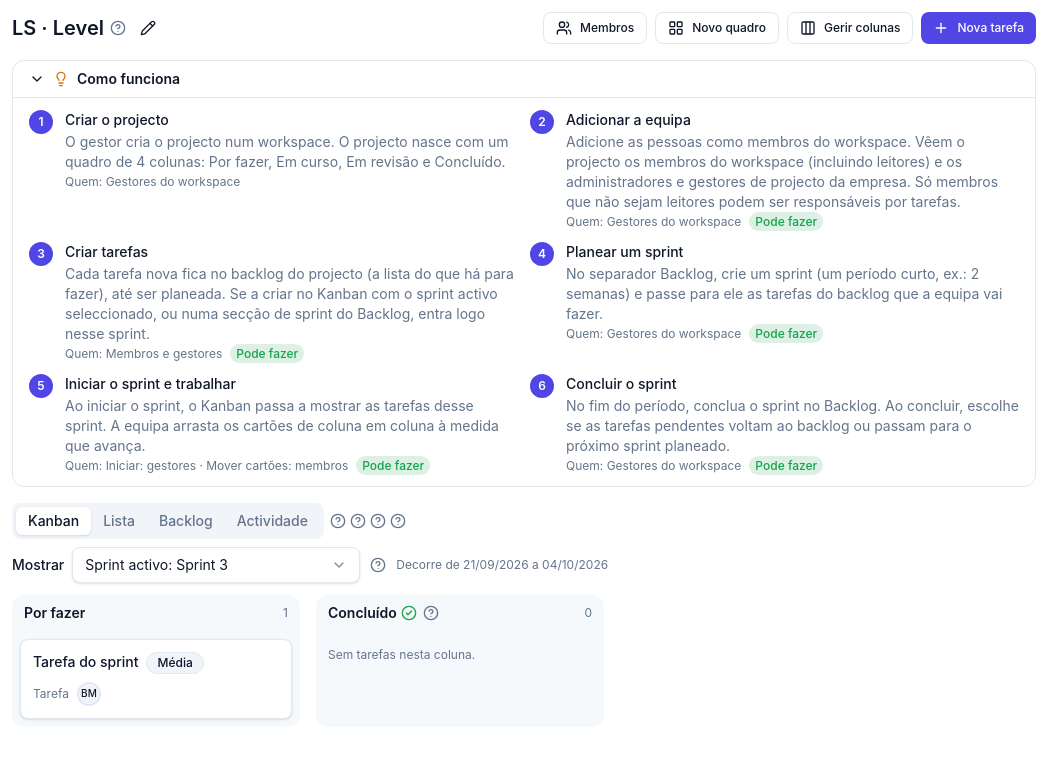
Test case: KanbanBoardPage: painel "Como funciona" › pode ser fechado e fica lembrado no browser
The width and height of the screenshot is (1048, 780).
expect the text "Planear um sprint" is shown: met, box [565,242,683,260]
Click the button "Como funciona" at coordinates (129, 78), box [29,69,1019,89]
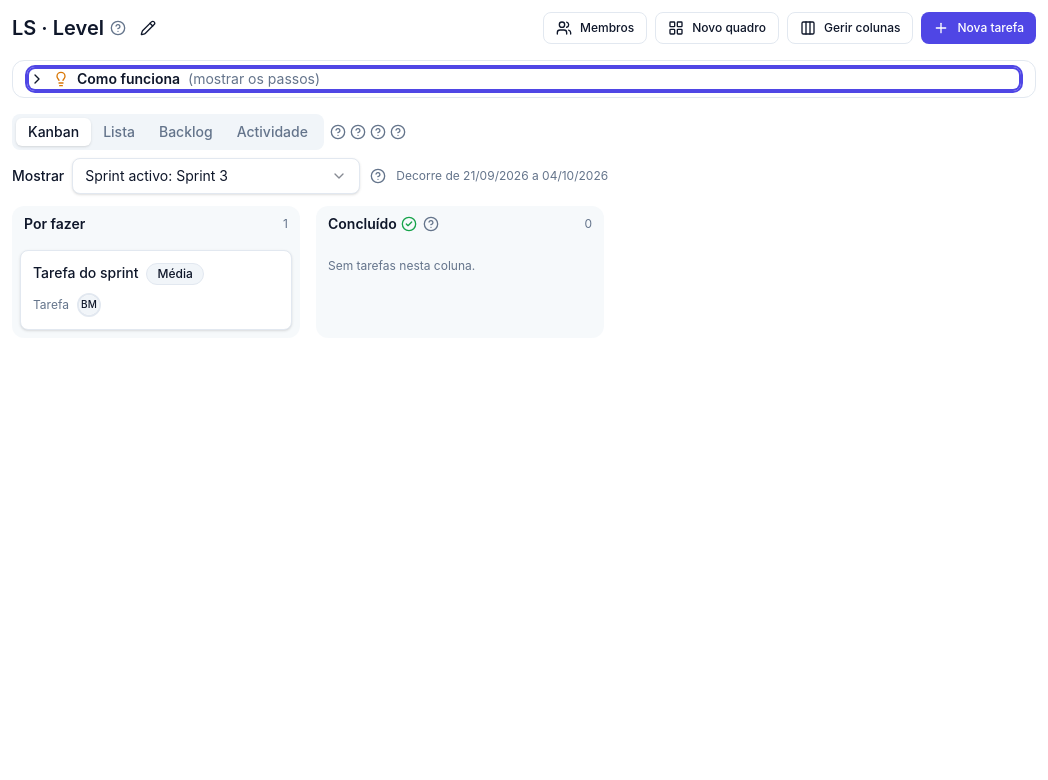
expect the button "Como funciona (mostrar os passos)" is collapsed: met, box [29,69,1019,89]
